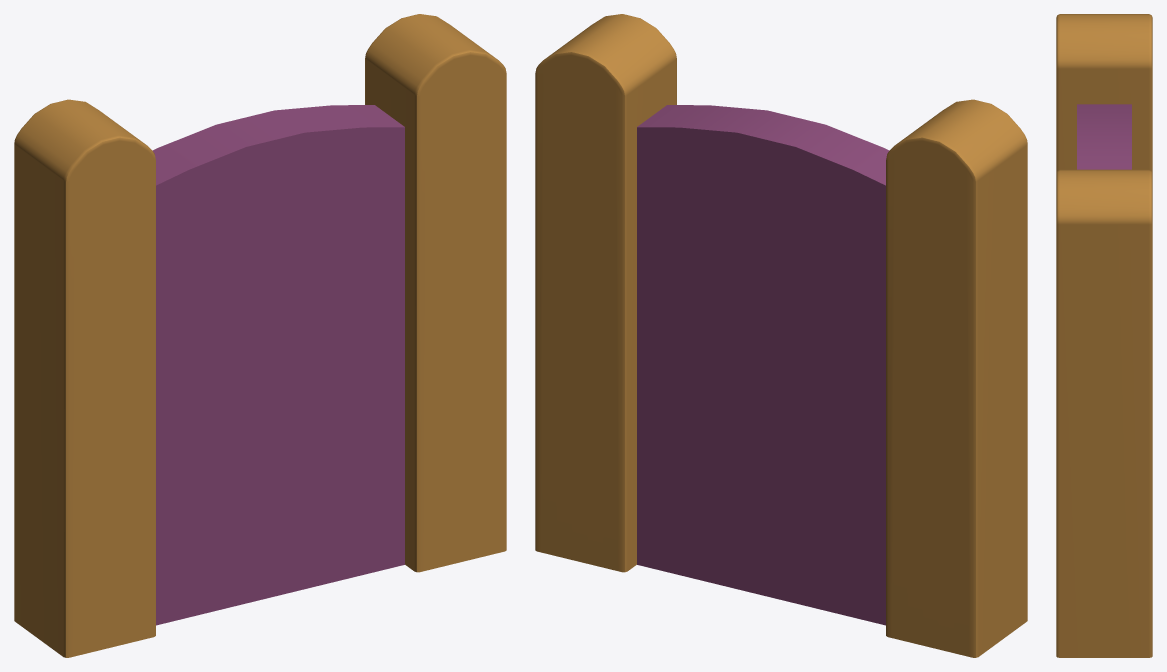
Rendered from WallDoor.fbx.
3 renders of one model, left to right at view 1: azimuth 30°, elevation 25°; view 2: azimuth 150°, elevation 25°; view 3: azimuth 270°, elevation 25°, orthographic. The views are drawn at different scales.
Parts seen in each view (by area): view 1: Door, WallLeft, WallRight; view 2: Door, WallLeft, WallRight; view 3: WallRight, WallLeft, Door.
Boxes of the visible parts, <box> form: Door: <box>152,105,404,625</box>; WallLeft: <box>14,99,155,657</box>; WallRight: <box>365,14,506,572</box>; Door: <box>637,105,889,625</box>; WallLeft: <box>886,99,1027,657</box>; WallRight: <box>535,14,676,572</box>; WallRight: <box>1056,169,1152,657</box>; WallLeft: <box>1056,14,1152,172</box>; Door: <box>1077,104,1131,169</box>.
Bounding box in the file's own units: 194 × 213 × 40.36.
